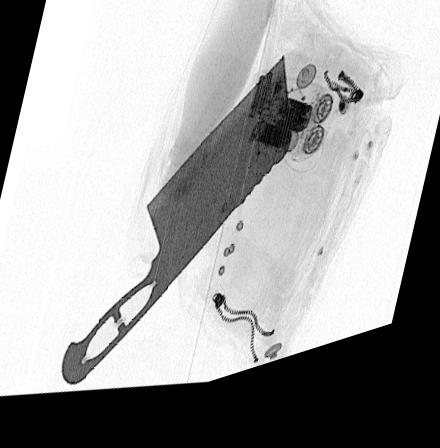Knife: (58, 68, 293, 389)
